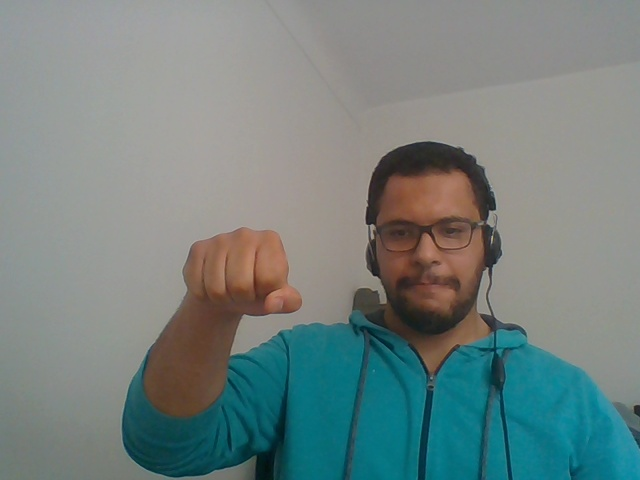yes: (164, 193, 317, 368)
